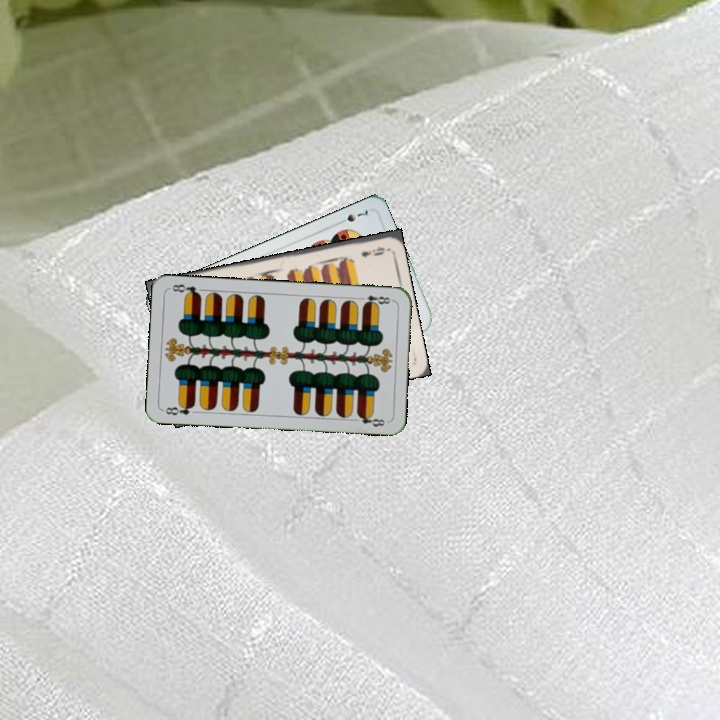E8: (355, 291, 396, 309), (160, 400, 197, 418)
E9: (357, 242, 387, 260)
S7: (333, 205, 371, 227)
